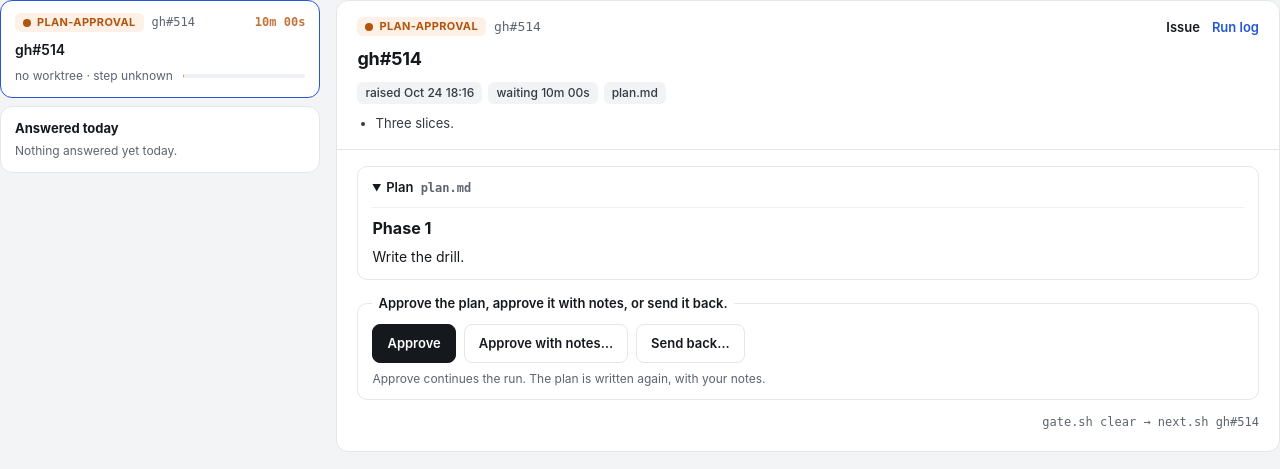
RunRefusedForTheQueue_SaysTheScheduledRunPicksItUp
Click the button "Approve" at (414, 344), box left=372, top=324, right=456, bottom=363
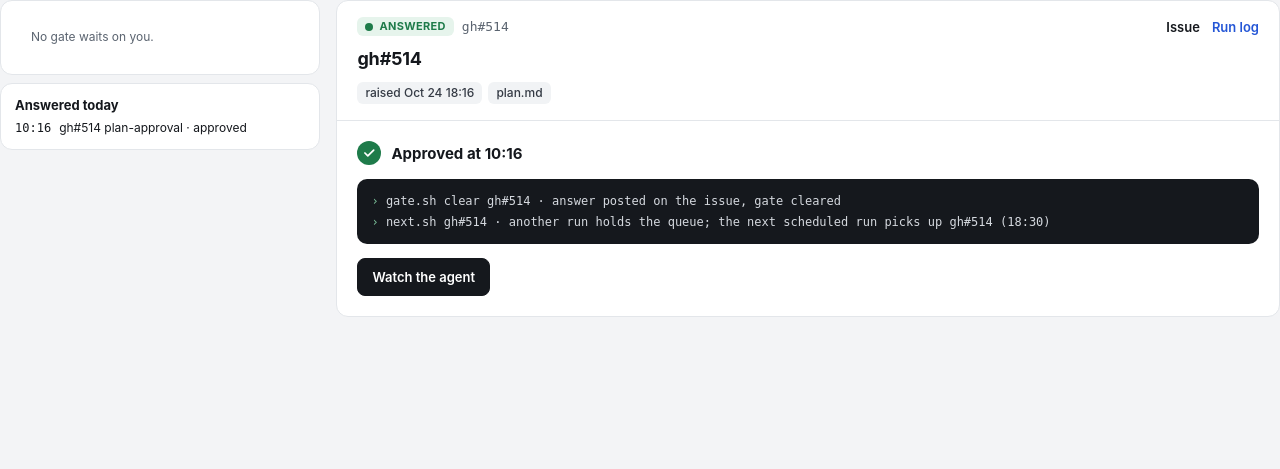
Now the text "the next scheduled run picks up gh#514 (18:30)" is shown, box left=386, top=215, right=1051, bottom=229
